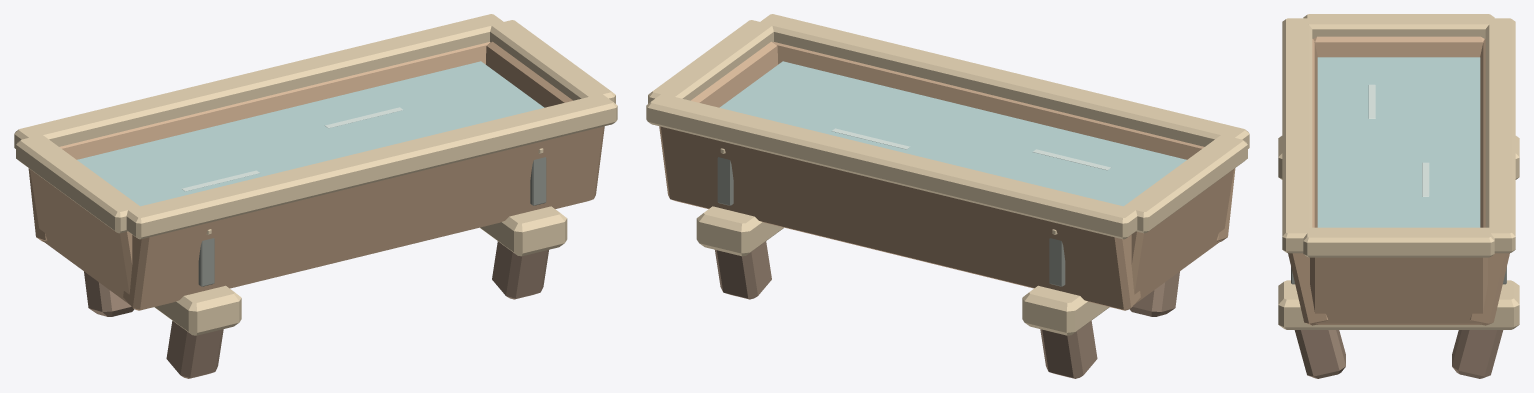
Rendered from crafted-cow-water-2.glb.
3 views of the same model, side by side, from view 1: azimuth 30°, elevation 25°; view 2: azimuth 150°, elevation 25°; view 3: azimuth 270°, elevation 25° (orthographic). The views are drawn at different scales.
Visible parts, largest first — view 1: long-stave-1, water, rim-long-1, rim-long, long-stave, end-stave, rim-end, rim-end-1, trestle-1, trestle, splayed-leg-3, splayed-leg-1 (+4 smaller); view 2: long-stave, water, rim-long, rim-long-1, long-stave-1, end-stave, rim-end, rim-end-1, trestle-1, trestle, splayed-leg-2, splayed-leg (+4 smaller); view 3: water, end-stave-1, rim-long-1, rim-long, rim-end-1, rim-end, end-stave, trestle-1, long-stave, long-stave-1, splayed-leg-2, splayed-leg-3 (+3 smaller).
Boxes of the visible parts, <box> form: long-stave-1: <box>123,126,604,310</box>; water: <box>77,61,544,206</box>; rim-long-1: <box>126,94,617,239</box>; rim-long: <box>14,14,503,148</box>; long-stave: <box>28,42,490,241</box>; end-stave: <box>30,169,132,304</box>; rim-end: <box>16,135,139,233</box>; rim-end-1: <box>490,20,615,103</box>; trestle-1: <box>480,206,567,256</box>; trestle: <box>154,285,241,335</box>; splayed-leg-3: <box>492,241,548,299</box>; splayed-leg-1: <box>166,321,223,378</box>; long-stave: <box>659,126,1140,310</box>; water: <box>719,61,1186,206</box>; rim-long: <box>646,94,1137,239</box>; rim-long-1: <box>760,14,1249,148</box>; long-stave-1: <box>773,42,1235,241</box>; end-stave: <box>1131,169,1233,304</box>; rim-end: <box>1124,135,1247,233</box>; rim-end-1: <box>648,20,773,103</box>; trestle-1: <box>696,206,783,256</box>; trestle: <box>1022,285,1109,335</box>; splayed-leg-2: <box>715,241,771,299</box>; splayed-leg: <box>1040,321,1097,378</box>; water: <box>1317,57,1480,227</box>; end-stave-1: <box>1310,257,1487,324</box>; rim-long-1: <box>1282,18,1312,253</box>; rim-long: <box>1485,18,1515,253</box>; rim-end-1: <box>1303,227,1494,257</box>; rim-end: <box>1303,14,1494,38</box>; end-stave: <box>1313,36,1484,57</box>; trestle-1: <box>1278,280,1519,329</box>; long-stave: <box>1470,39,1509,325</box>; long-stave-1: <box>1288,39,1327,325</box>; splayed-leg-2: <box>1452,330,1503,378</box>; splayed-leg-3: <box>1294,330,1345,378</box>.
Size of the model in its own units: 1.6 by 0.5736 by 0.72.
